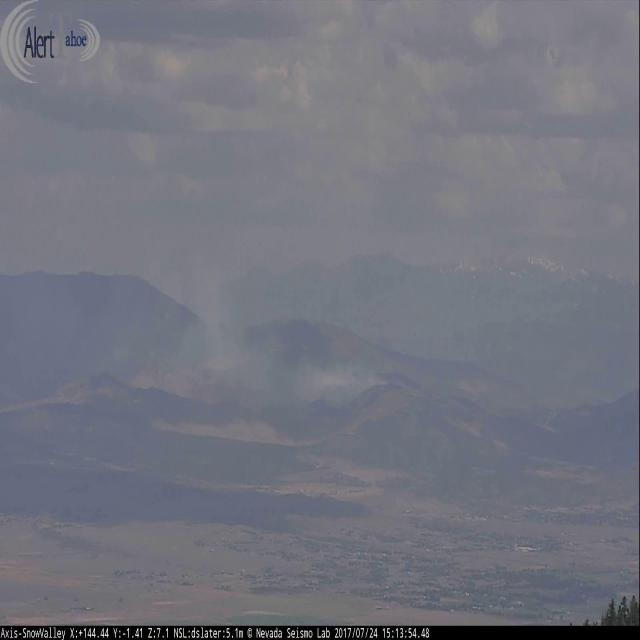smoke: (123, 237, 386, 410)
